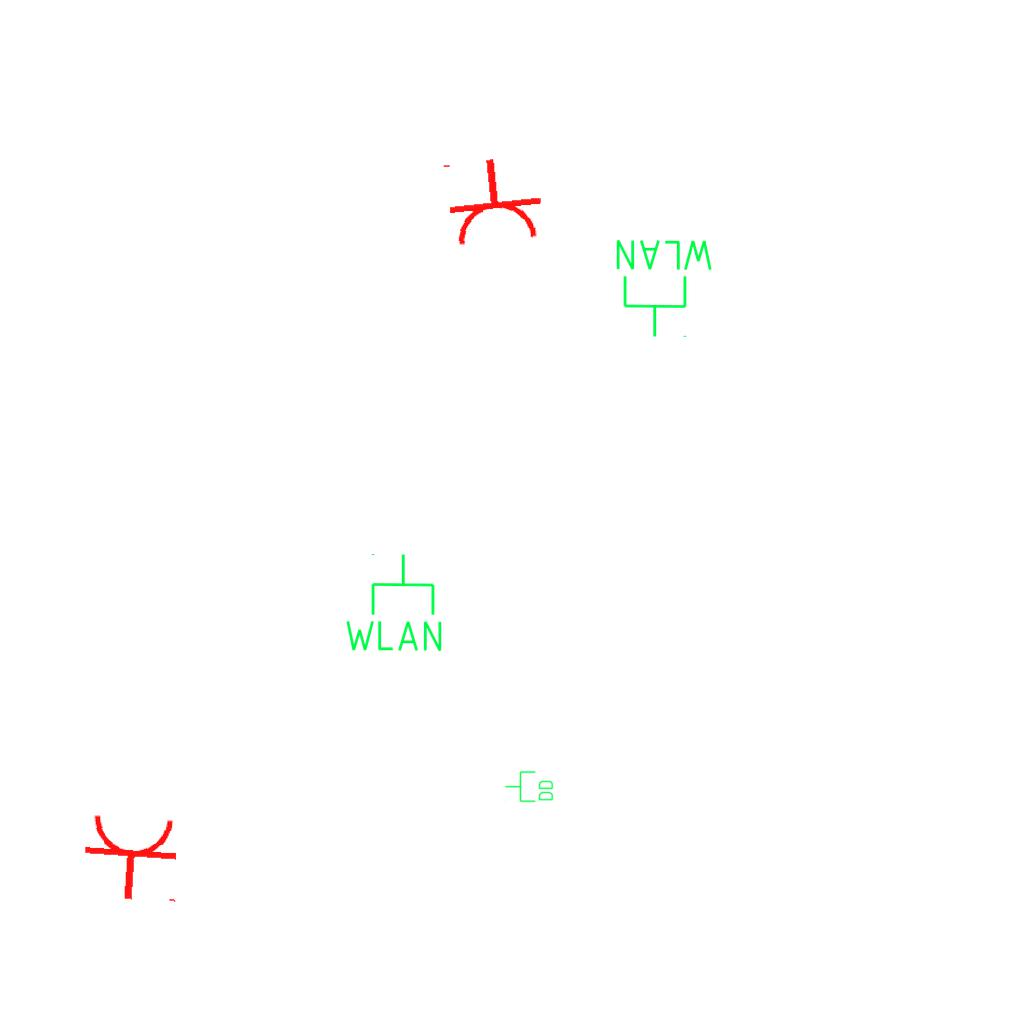Datenanschluss_zweifach: (504, 770, 555, 804)
Schukosteckdose_einfach: (438, 152, 547, 250), (79, 811, 186, 905)
WLAN: (341, 551, 446, 655), (612, 236, 717, 340)
